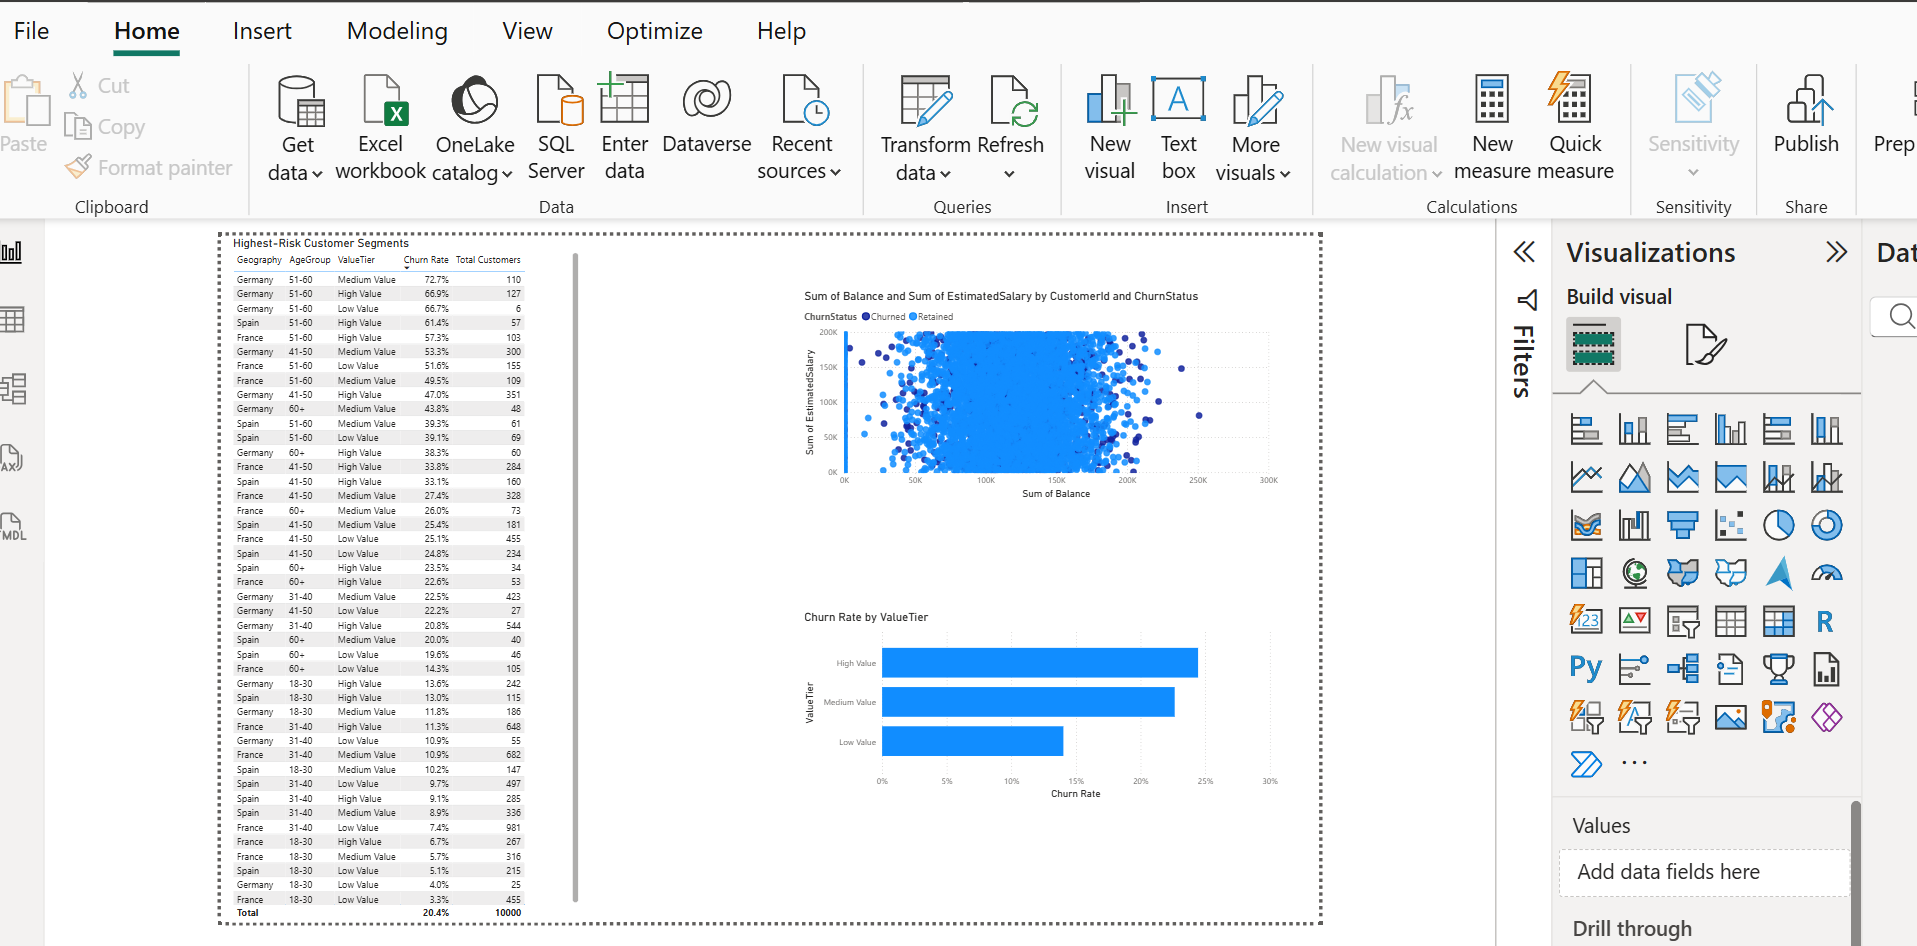

The dashboard page shown, as its layout file describes it:
{"tool":"powerbi","page":{"name":"Customer Value & Segments","canvas":[1600,1000],"ordinal":2},"visuals":[{"type":"clusteredBarChart","fields":{"Category":["Bank_Churn.ValueTier"],"Y":["Bank_Churn.Churn Rate"]},"box":[613.3,423.3,513.3,280],"z":0},{"type":"scatterChart","fields":{"X":["Sum(Bank_Churn.Balance)"],"Y":["Sum(Bank_Churn.EstimatedSalary)"],"Category":["Bank_Churn.CustomerId"],"Series":["Bank_Churn.ChurnStatus"]},"box":[586.7,36.7,563.3,310],"z":1000},{"type":"tableEx","title":"Highest-Risk Customer Segments","fields":{"Values":["Bank_Churn.Geography","Bank_Churn.AgeGroup","Bank_Churn.ValueTier","Bank_Churn.Churn Rate","Bank_Churn.Total Customers"]},"box":[13.3,0,513.3,1000],"z":2000}]}

Visuals, with their boxes on the page's 1600x1000 design canvas (x1, y1, x2, y2). These are canvas units, not pixel positions in the 1917x946 screenshot, which may show the page scaled, cropped or inside an application window:
clusteredBarChart - Bank_Churn.ValueTier x Bank_Churn.Churn Rate: 613:423:1127:703
scatterChart - Sum(Bank_Churn.Balance) x Sum(Bank_Churn.EstimatedSalary): 587:37:1150:347
"Highest-Risk Customer Segments" tableEx: 13:0:527:1000
